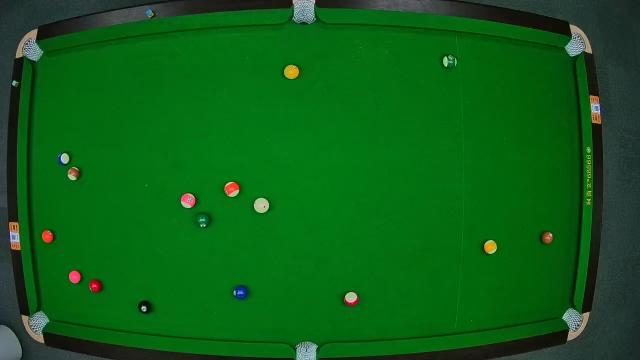bag1: (22, 40, 42, 60)
bag2: (291, 0, 317, 24)
bag3: (566, 33, 586, 55)
bag4: (29, 310, 49, 332)
bag5: (296, 338, 318, 360)
bag6: (562, 308, 584, 332)
ball0: (254, 198, 270, 214)
ball1: (284, 64, 300, 80)
ball10: (57, 150, 71, 166)
ball11: (344, 291, 360, 307)
ball12: (180, 193, 196, 209)
ball13: (224, 180, 240, 198)
ball14: (442, 55, 458, 69)
ball15: (68, 167, 82, 181)
ball2: (234, 284, 248, 300)
ball3: (88, 278, 102, 294)
ball4: (68, 270, 82, 284)
ball5: (41, 229, 54, 243)
ball6: (196, 213, 212, 229)
ball7: (540, 230, 554, 246)
ball8: (138, 300, 152, 314)
ball9: (483, 240, 497, 256)
